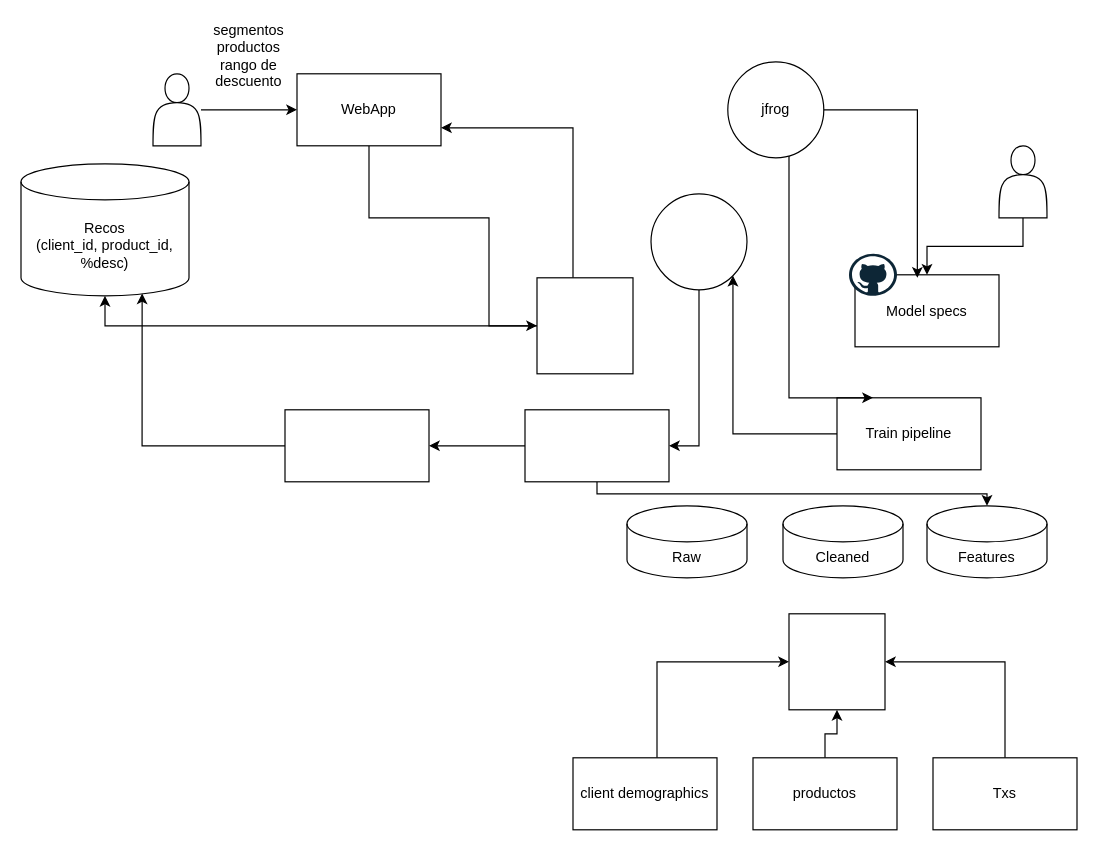
This 1098x851 diagram has some shape labels left out. Here are the shapes that lost their labels. From the top down, the centre of each, then its label:
(698,241): mlflow
(584,325): Serverless Backend
(356,445): Optimízación
(596,445): Inferencia
(836,661): ETL
